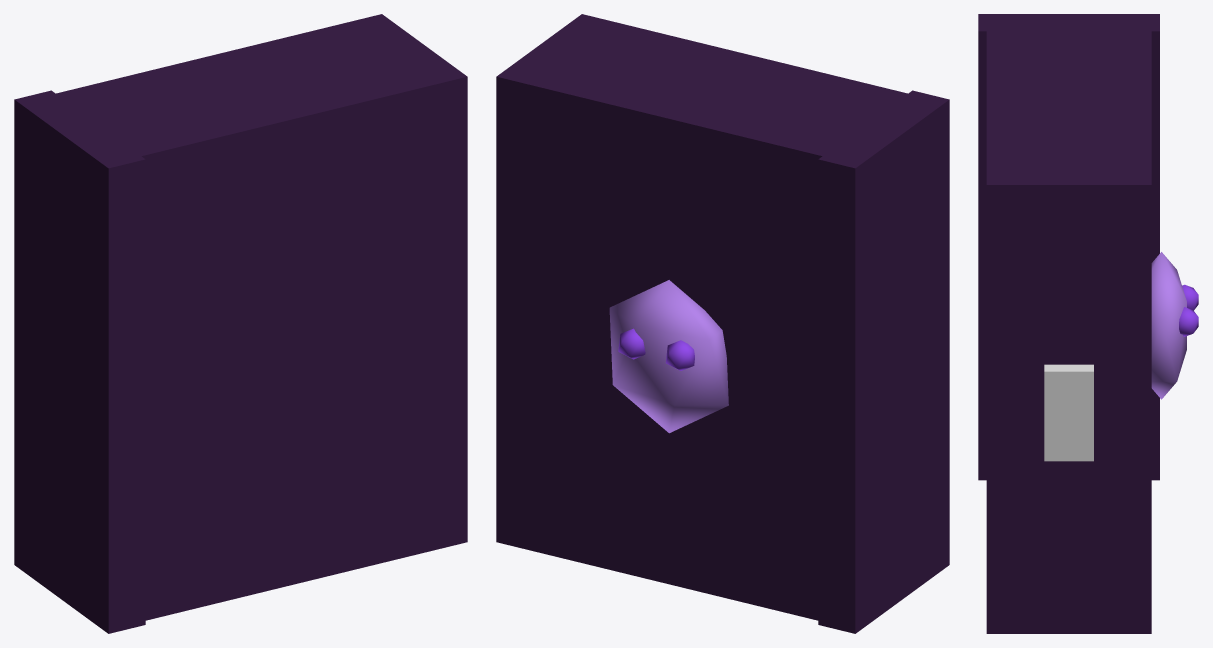
Rendered from demon_scythe.glb.
3 views of the same model, side by side, from view 1: azimuth 30°, elevation 25°; view 2: azimuth 150°, elevation 25°; view 3: azimuth 270°, elevation 25° (orthographic). The views are drawn at different scales.
Parts seen in each view (by area): view 1: demon_scythe_v0; view 2: demon_scythe_v0; view 3: demon_scythe_v0.
Part boxes in pixels (left/top/right/bottom): demon_scythe_v0: left=14, top=14, right=467, bottom=633; demon_scythe_v0: left=496, top=14, right=949, bottom=633; demon_scythe_v0: left=978, top=14, right=1198, bottom=633.
Size of the model in its own units: 0.255 by 0.3 by 0.1335.
